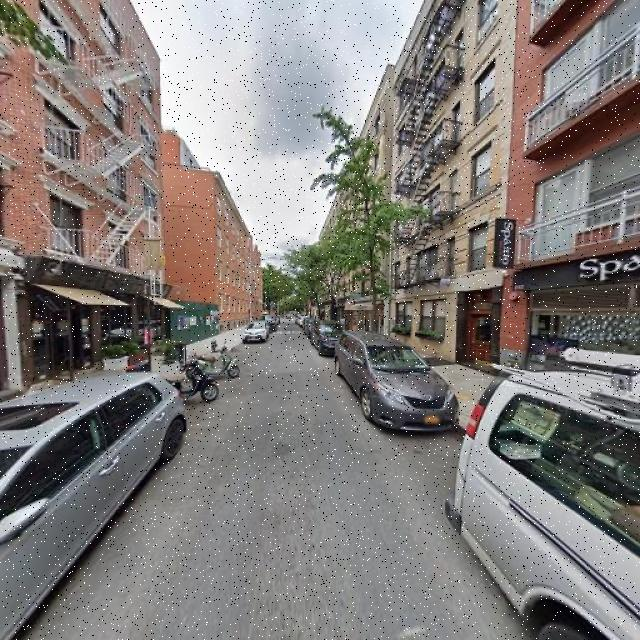Building: (1, 1, 155, 409), (517, 1, 640, 414), (393, 1, 512, 379)
